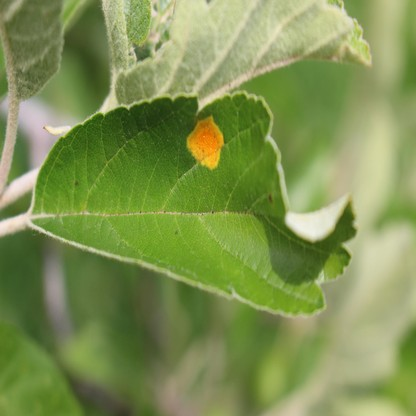rust: (186, 116, 224, 170)
